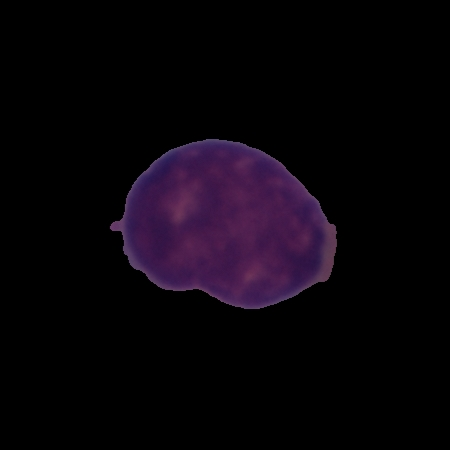HEM: (107, 134, 341, 315)
